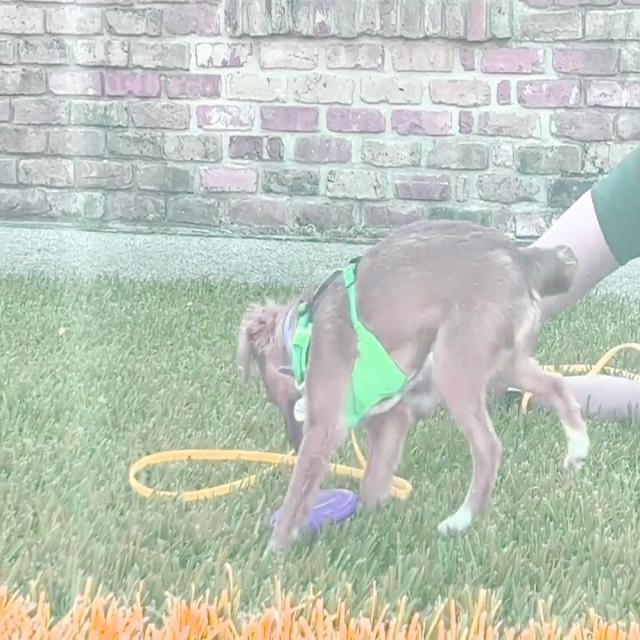Dog: (239, 219, 590, 561)
